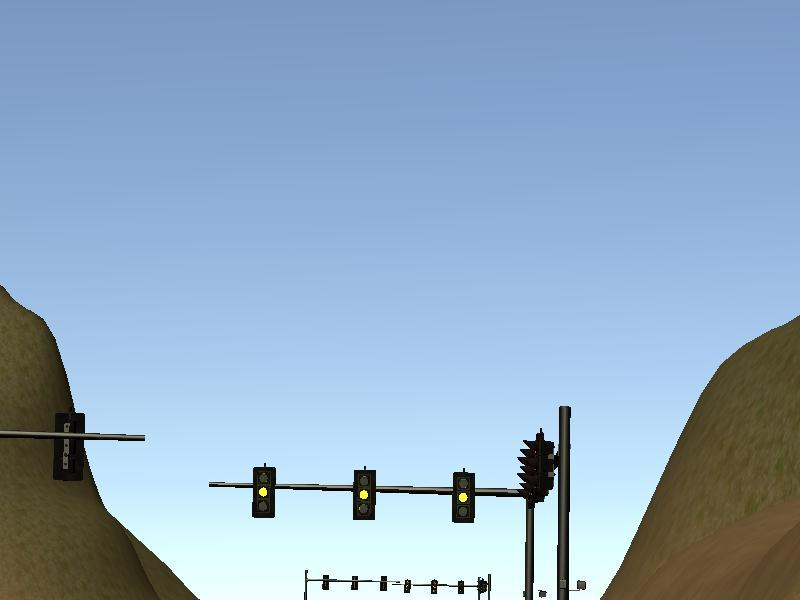Yellow: (251, 468, 275, 517), (354, 471, 376, 519), (453, 474, 475, 522)
